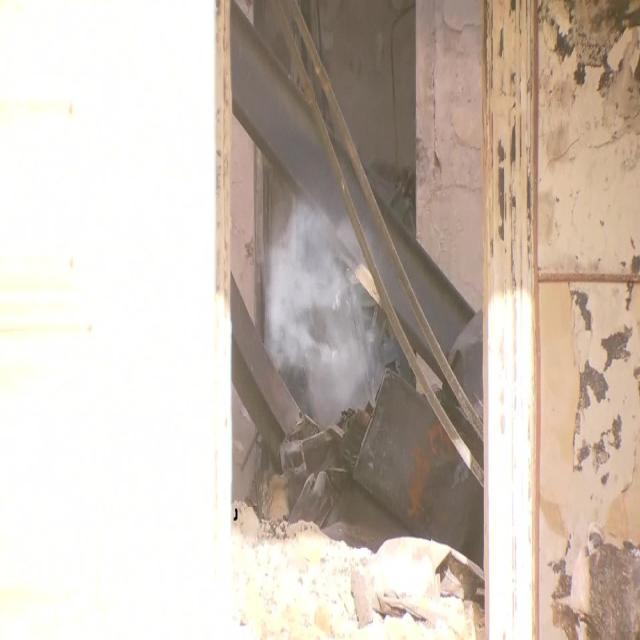Smoke: (252, 183, 385, 422)
